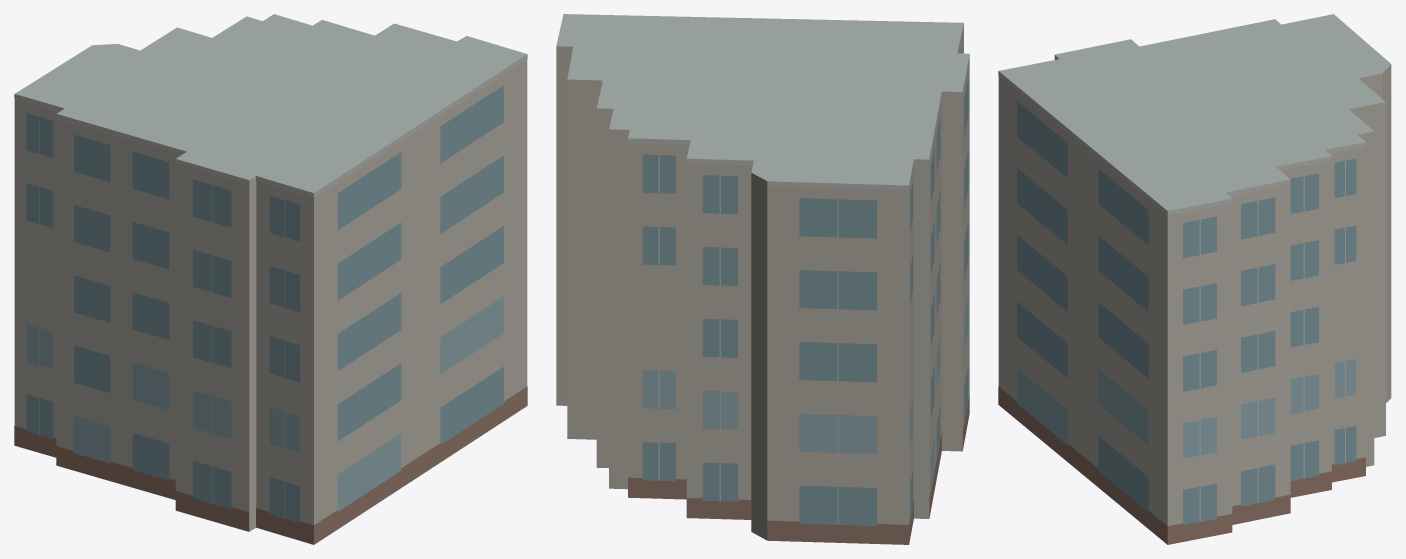
File: survey-upis-32593283.glb
3 renders of one model, left to right at view 1: azimuth 30°, elevation 25°; view 2: azimuth 150°, elevation 25°; view 3: azimuth 270°, elevation 25°, orthographic. The views are drawn at different scales.
Parts seen in each view (by area): view 1: survey-upis-32593283.tmp; view 2: survey-upis-32593283.tmp; view 3: survey-upis-32593283.tmp.
Part boxes in pixels (box(x1,y1,x2,y2)): survey-upis-32593283.tmp: box(14, 14, 527, 544); survey-upis-32593283.tmp: box(556, 14, 969, 544); survey-upis-32593283.tmp: box(998, 14, 1391, 544).
Bounding box in the file's own units: 22.17 × 17.5 × 18.68.
